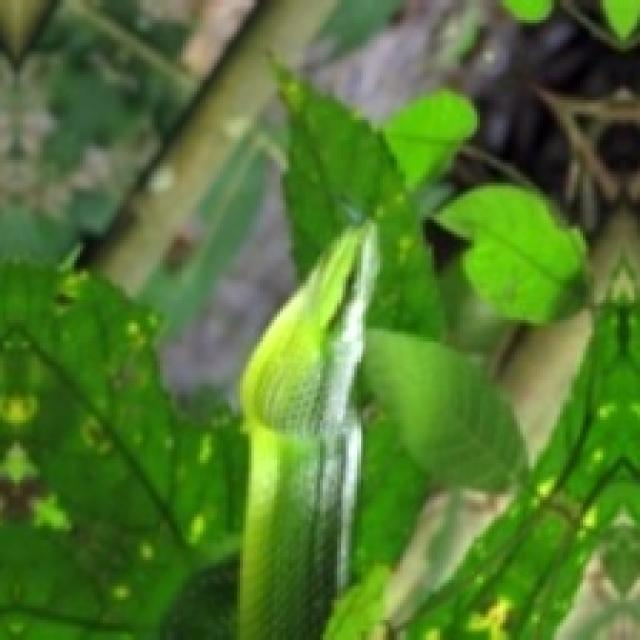red-tailed green ratsnake: (237, 220, 377, 637)
